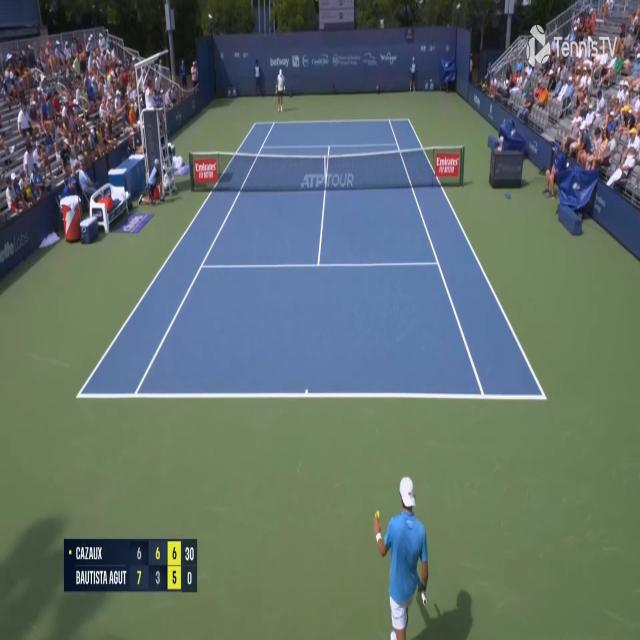tennis-player: (375, 470, 436, 639), (274, 67, 286, 114)
